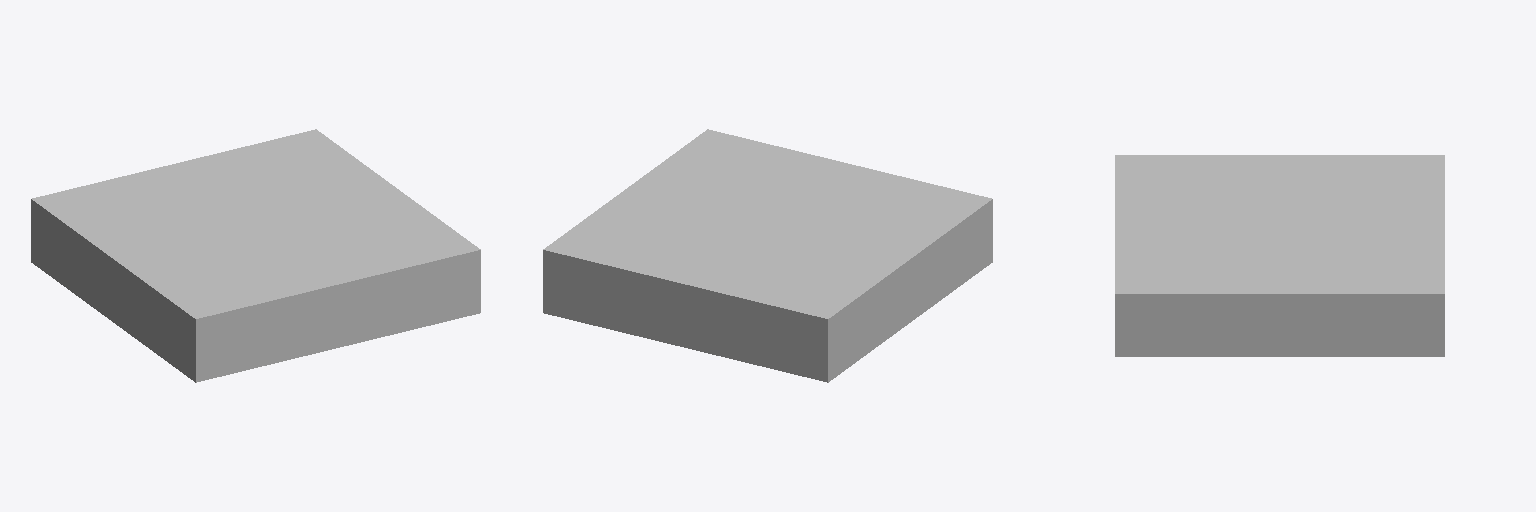
File: roof-flat-detail-d.obj
3 views of the same model, side by side, from view 1: azimuth 30°, elevation 25°; view 2: azimuth 150°, elevation 25°; view 3: azimuth 270°, elevation 25° (orthographic).
Visible parts, largest first — view 1: roof-flat-detail-d; view 2: roof-flat-detail-d; view 3: roof-flat-detail-d.
Part boxes in pixels (x1,y1,x2,y2): roof-flat-detail-d: (31,129,480,382); roof-flat-detail-d: (543,129,992,382); roof-flat-detail-d: (1115,155,1444,356).
Bounding box in the file's own units: 1 × 0.2125 × 1.